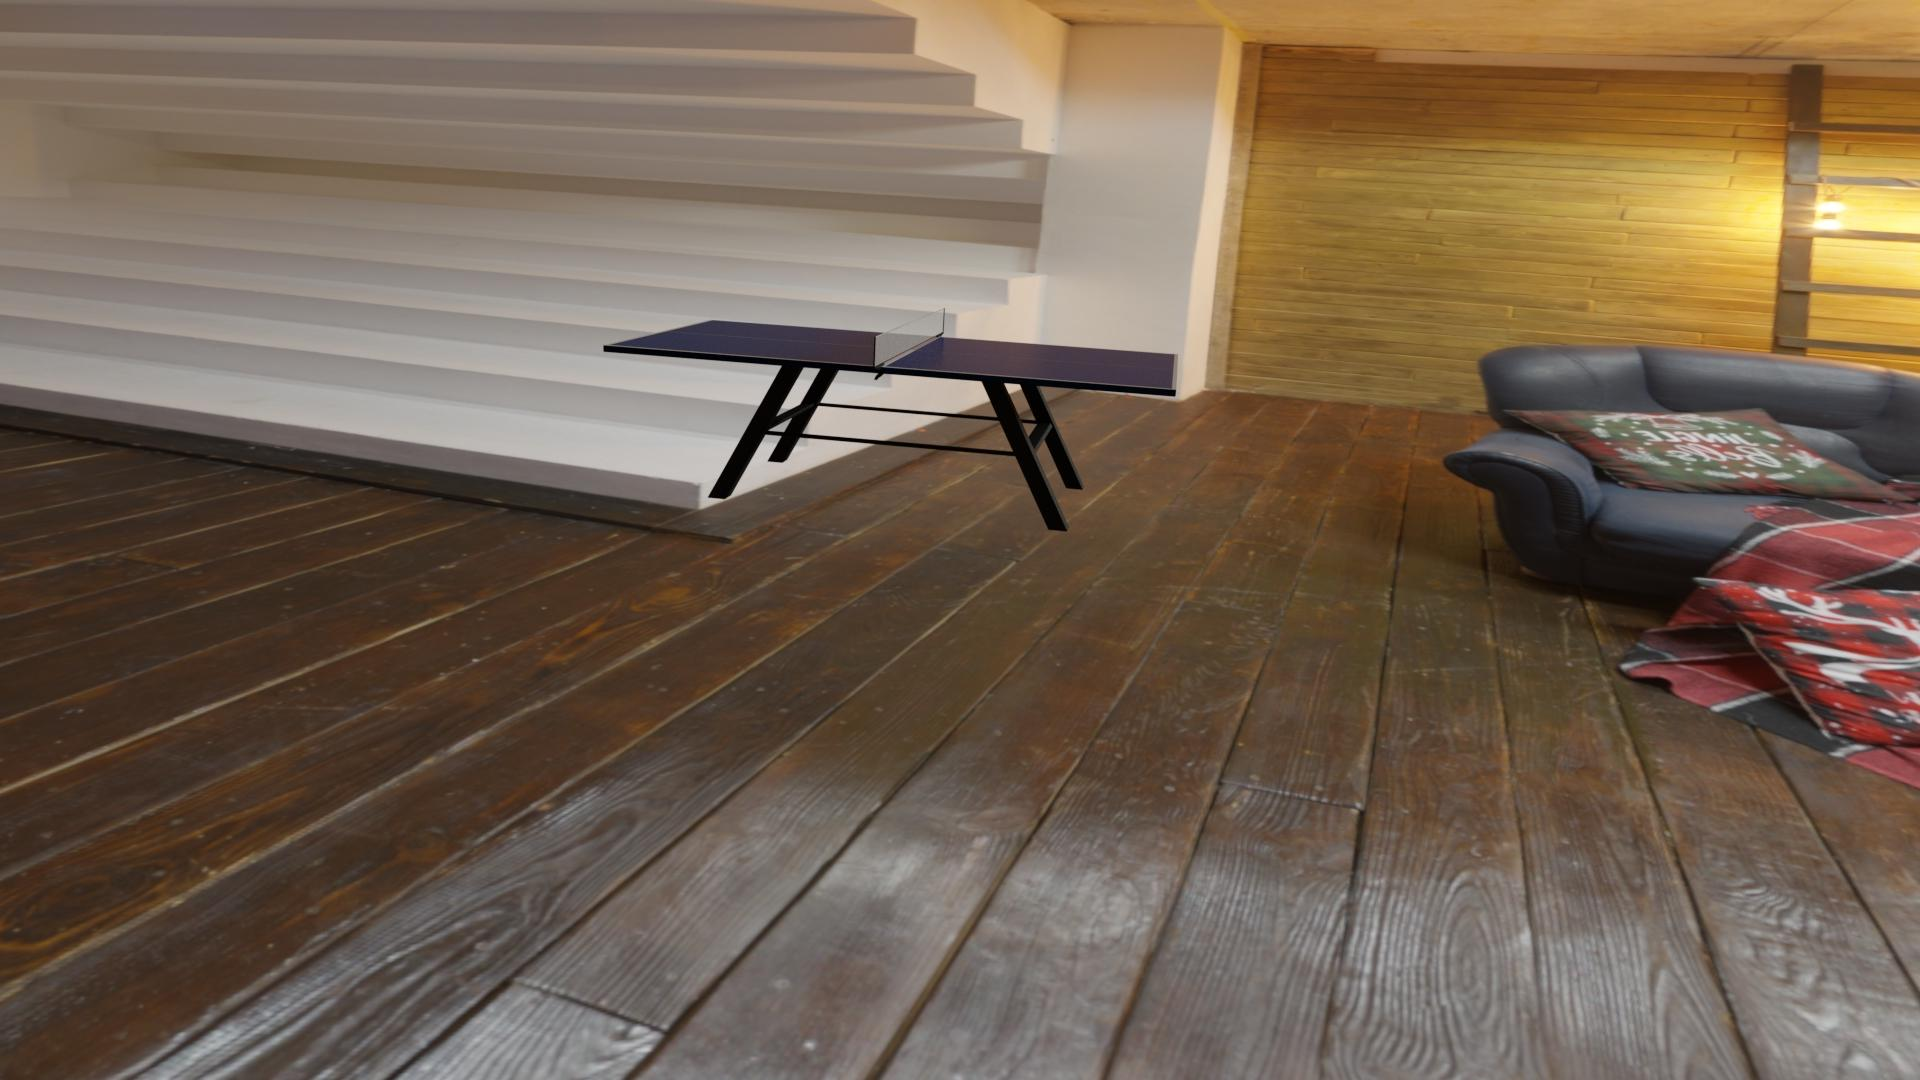table: (608, 320, 1175, 389)
